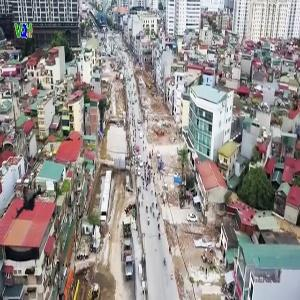drone: (8, 182, 53, 227)
